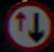Two way: (11, 2, 43, 45)
